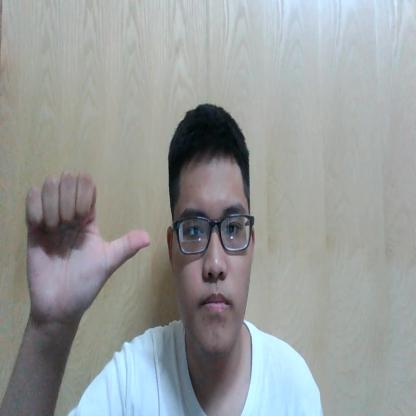left: (25, 168, 151, 314)
